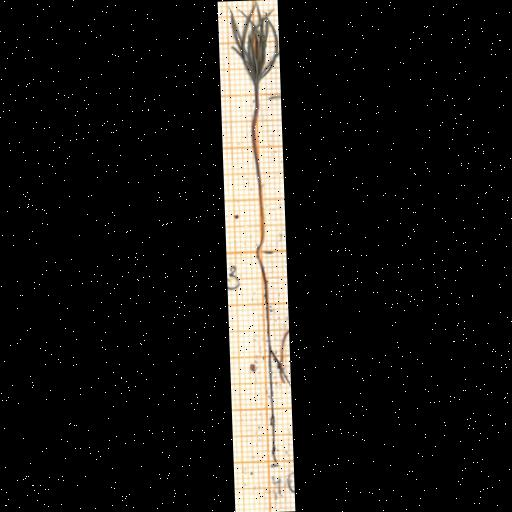flowerPinus: (229, 1, 279, 84)
rootPinus: (261, 266, 289, 462)
stemPinus: (250, 91, 264, 249)
